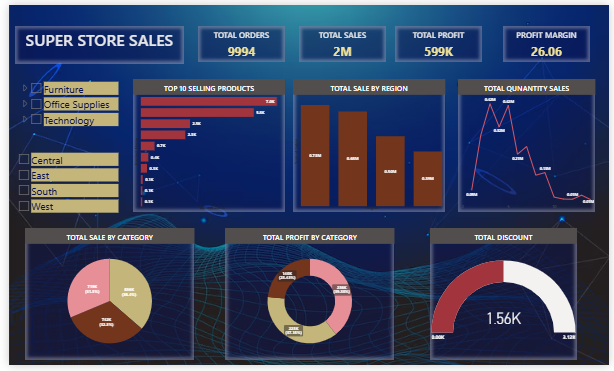

What the dashboard file says about the page in this screenshot:
{"tool":"powerbi","page":{"name":"Page 1","canvas":[2000,1200],"ordinal":0},"visuals":[{"type":"card","title":"TOTAL SALES","fields":{"Values":["Sample - Superstore.Total_sale"]},"box":[965,70,290,120],"z":0},{"type":"card","title":"TOTAL PROFIT","fields":{"Values":["Sample - Superstore.TOTALPROFIT"]},"box":[1285,70,290,120],"z":1000},{"type":"card","title":"TOTAL ORDERS","fields":{"Values":["Sample - Superstore.TOTAL ORDERS"]},"box":[630,70,290,120],"z":2000},{"type":"columnChart","title":"TOTAL SALE BY REGION","fields":{"Y":["Sum(Sample - Superstore. Sales )"],"Category":["Sample - Superstore.Region"]},"box":[945,245,507.5,442.5],"z":3000},{"type":"pieChart","title":"TOTAL SALE BY CATEGORY","fields":{"Category":["Sample - Superstore.Category"],"Y":["Sum(Sample - Superstore. Sales )"]},"box":[52.5,742.5,565,440],"z":4000},{"type":"lineChart","title":"TOTAL QUNANTITY SALES","fields":{"Category":["Sample - Superstore.Quantity"],"Y":["Sum(Sample - Superstore. Sales )"]},"box":[1497.5,245,457.5,442.5],"z":5000},{"type":"slicer","fields":{"Values":["Sample - Superstore.Region"]},"box":[20,482.5,350,232.5],"z":6000},{"type":"textbox","title":"SUPER STORE SALES","box":[20,70,562.5,125],"z":7000},{"type":"barChart","title":"TOP 10 SELLING PRODUCTS","fields":{"Category":["Sample - Superstore.Product Name"],"Y":["Sum(Sample - Superstore. Sales )"]},"box":[412.5,245,507.5,442.5],"z":8000},{"type":"donutChart","title":"TOTAL PROFIT BY CATEGORY","fields":{"Category":["Sample - Superstore.Category"],"Y":["Sum(Sample - Superstore.Profit)"]},"box":[720,742.5,565,440],"z":9000},{"type":"slicer","fields":{"Values":["Sample - Superstore.Category","Sample - Superstore.Sub-Category"]},"box":[20,245,350,287.5],"z":10000},{"type":"gauge","title":"TOTAL DISCOUNT","fields":{"Y":["Sum(Sample - Superstore.Discount)"]},"box":[1402.5,742.5,490,440],"z":11000},{"type":"card","title":"PROFIT MARGIN","fields":{"Values":["Sample - Superstore.PROFIT MARGIN"]},"box":[1647.5,70,290,120],"z":12000}]}

Visuals, with their boxes in screenshot pixels (x1, y1, x2, y2), scaled from the page's 2000x1200 canvas onto the 614x371 screenshot:
"TOTAL SALES" card: bbox(296, 22, 385, 59)
"TOTAL PROFIT" card: bbox(394, 22, 484, 59)
"TOTAL ORDERS" card: bbox(193, 22, 282, 59)
"TOTAL SALE BY REGION" columnChart: bbox(290, 76, 446, 213)
"TOTAL SALE BY CATEGORY" pieChart: bbox(16, 230, 190, 366)
"TOTAL QUNANTITY SALES" lineChart: bbox(460, 76, 600, 213)
slicer - Sample - Superstore.Region: bbox(6, 149, 114, 221)
"SUPER STORE SALES" textbox: bbox(6, 22, 179, 60)
"TOP 10 SELLING PRODUCTS" barChart: bbox(127, 76, 282, 213)
"TOTAL PROFIT BY CATEGORY" donutChart: bbox(221, 230, 394, 366)
slicer - Sample - Superstore.Category x Sample - Superstore.Sub-Category: bbox(6, 76, 114, 165)
"TOTAL DISCOUNT" gauge: bbox(431, 230, 581, 366)
"PROFIT MARGIN" card: bbox(506, 22, 595, 59)
